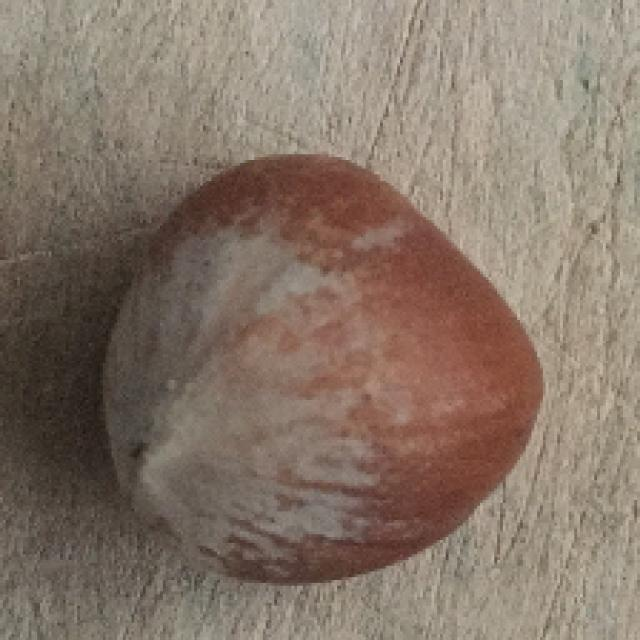QualityHazelnut: (102, 149, 548, 585)
